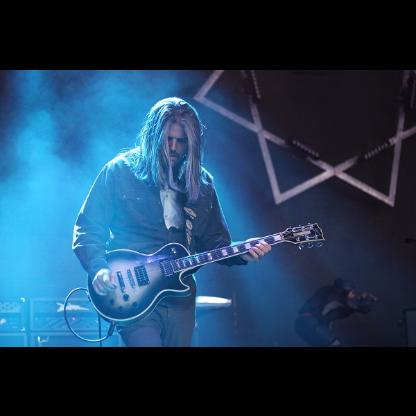guitar: (84, 218, 326, 326)
